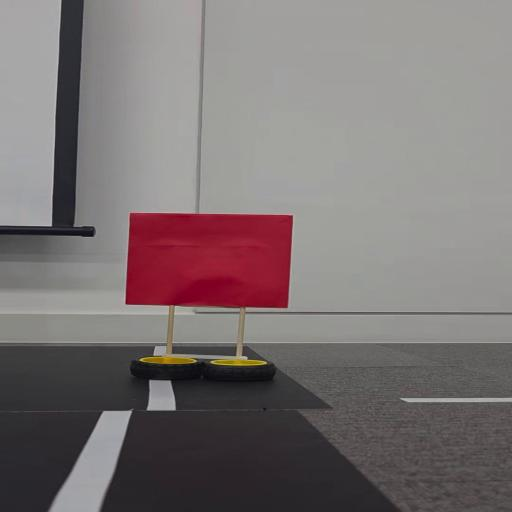Sign_A: (115, 214, 303, 378)
